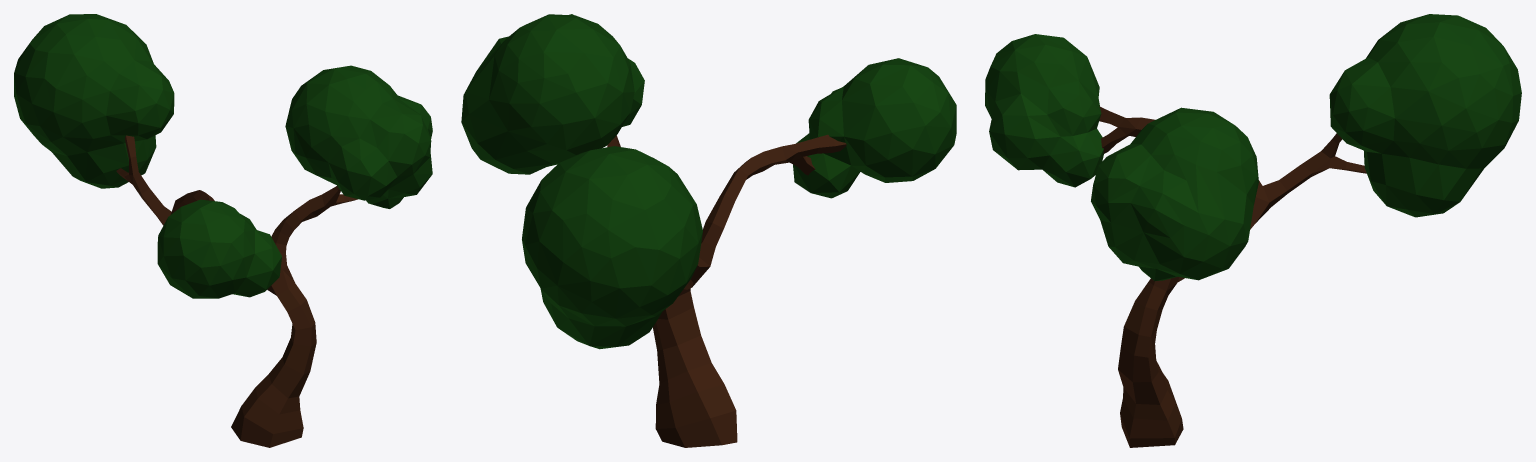
File: tree.obj
3 views of the same model, side by side, from view 1: azimuth 30°, elevation 25°; view 2: azimuth 150°, elevation 25°; view 3: azimuth 270°, elevation 25° (orthographic). The views are drawn at different scales.
Visible parts, largest first — view 1: LowPoly_Tree_03_lowpoly_tree_01_Plane.013; view 2: LowPoly_Tree_03_lowpoly_tree_01_Plane.013; view 3: LowPoly_Tree_03_lowpoly_tree_01_Plane.013.
Part boxes in pixels (left/top/right/bottom): LowPoly_Tree_03_lowpoly_tree_01_Plane.013: left=14, top=14, right=432, bottom=447; LowPoly_Tree_03_lowpoly_tree_01_Plane.013: left=461, top=14, right=956, bottom=447; LowPoly_Tree_03_lowpoly_tree_01_Plane.013: left=985, top=14, right=1521, bottom=447.
Size of the model in its own units: 3.25 by 3.25 by 4.13.
